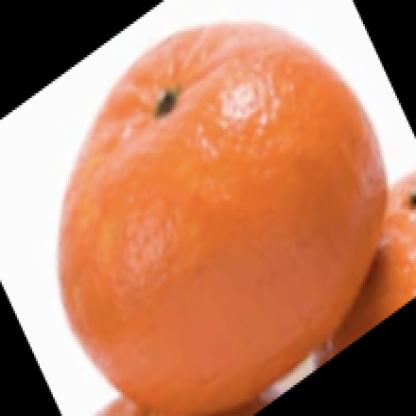fresh: (60, 20, 387, 416)
